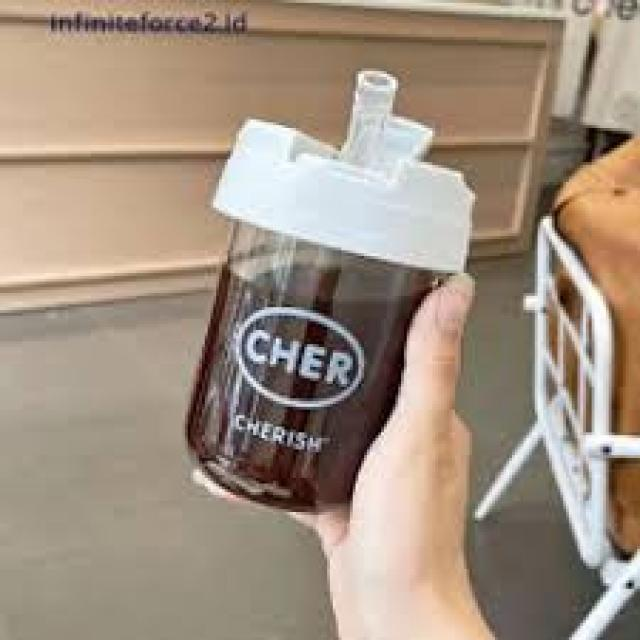good: (202, 38, 462, 516)
